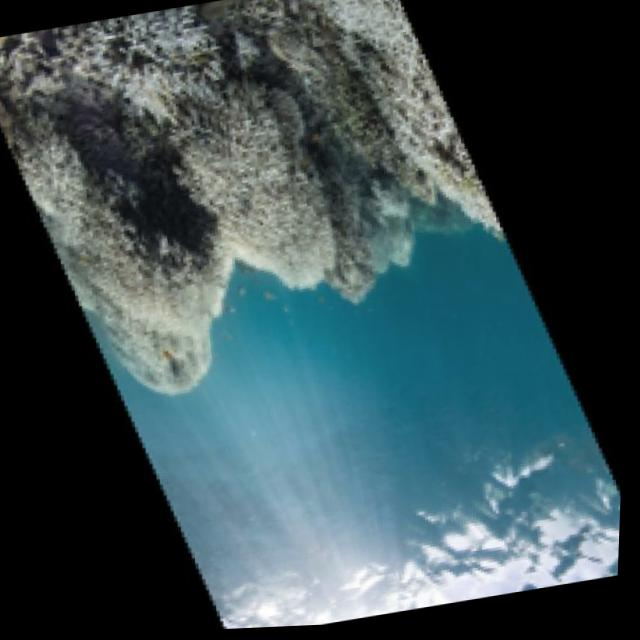Dead Coral: (2, 55, 274, 441), (323, 0, 539, 347), (167, 45, 383, 350), (23, 0, 243, 129)
